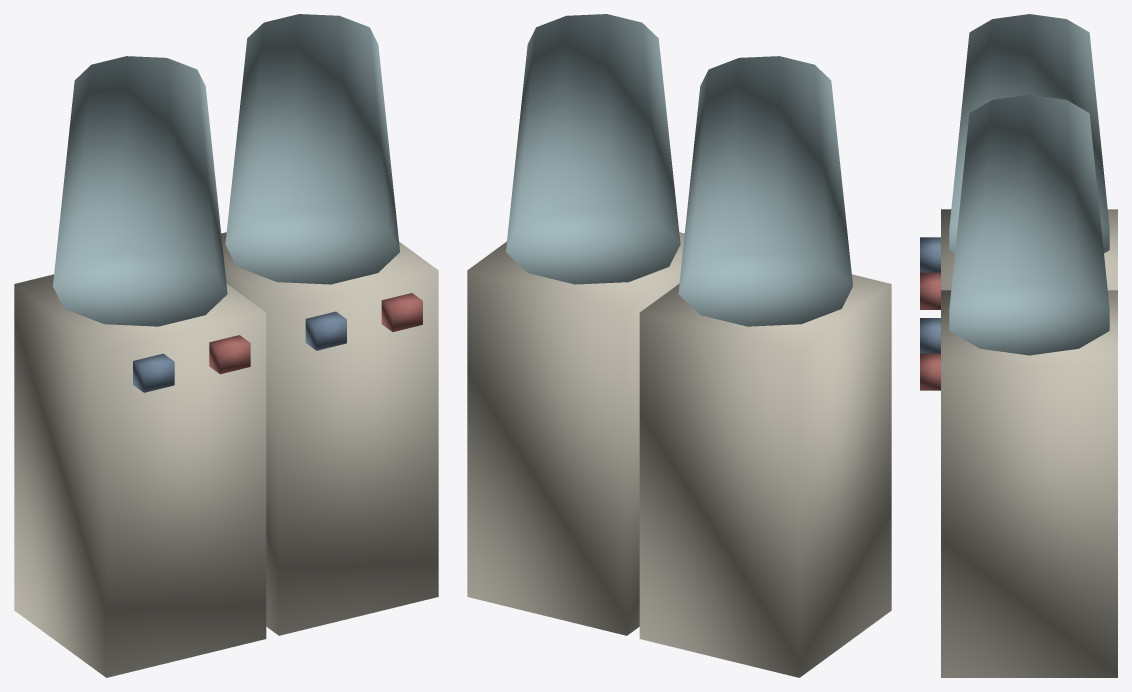
Rendered from water_cooler__cluster.glb.
3 views of the same model, side by side, from view 1: azimuth 30°, elevation 25°; view 2: azimuth 150°, elevation 25°; view 3: azimuth 270°, elevation 25° (orthographic). The views are drawn at different scales.
Visible parts, largest first — view 1: world; view 2: world; view 3: world.
Part boxes in pixels (x1,y1,x2,y2): world: [14, 14, 438, 677]; world: [467, 14, 891, 677]; world: [920, 14, 1117, 677].
Size of the model in its own units: 0.8736 by 1.36 by 0.47.
